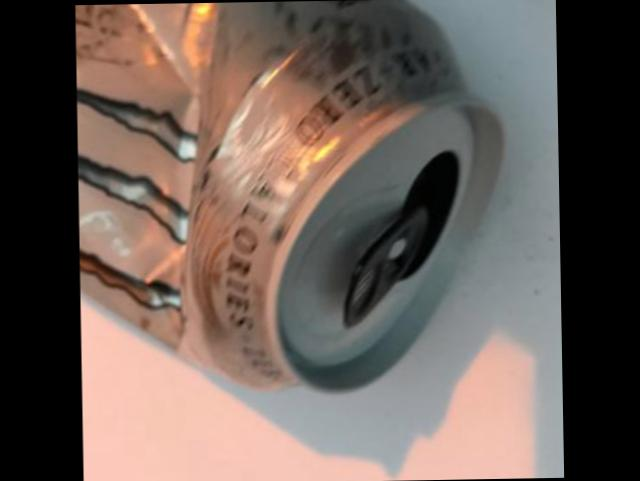metal: (75, 0, 496, 390)
